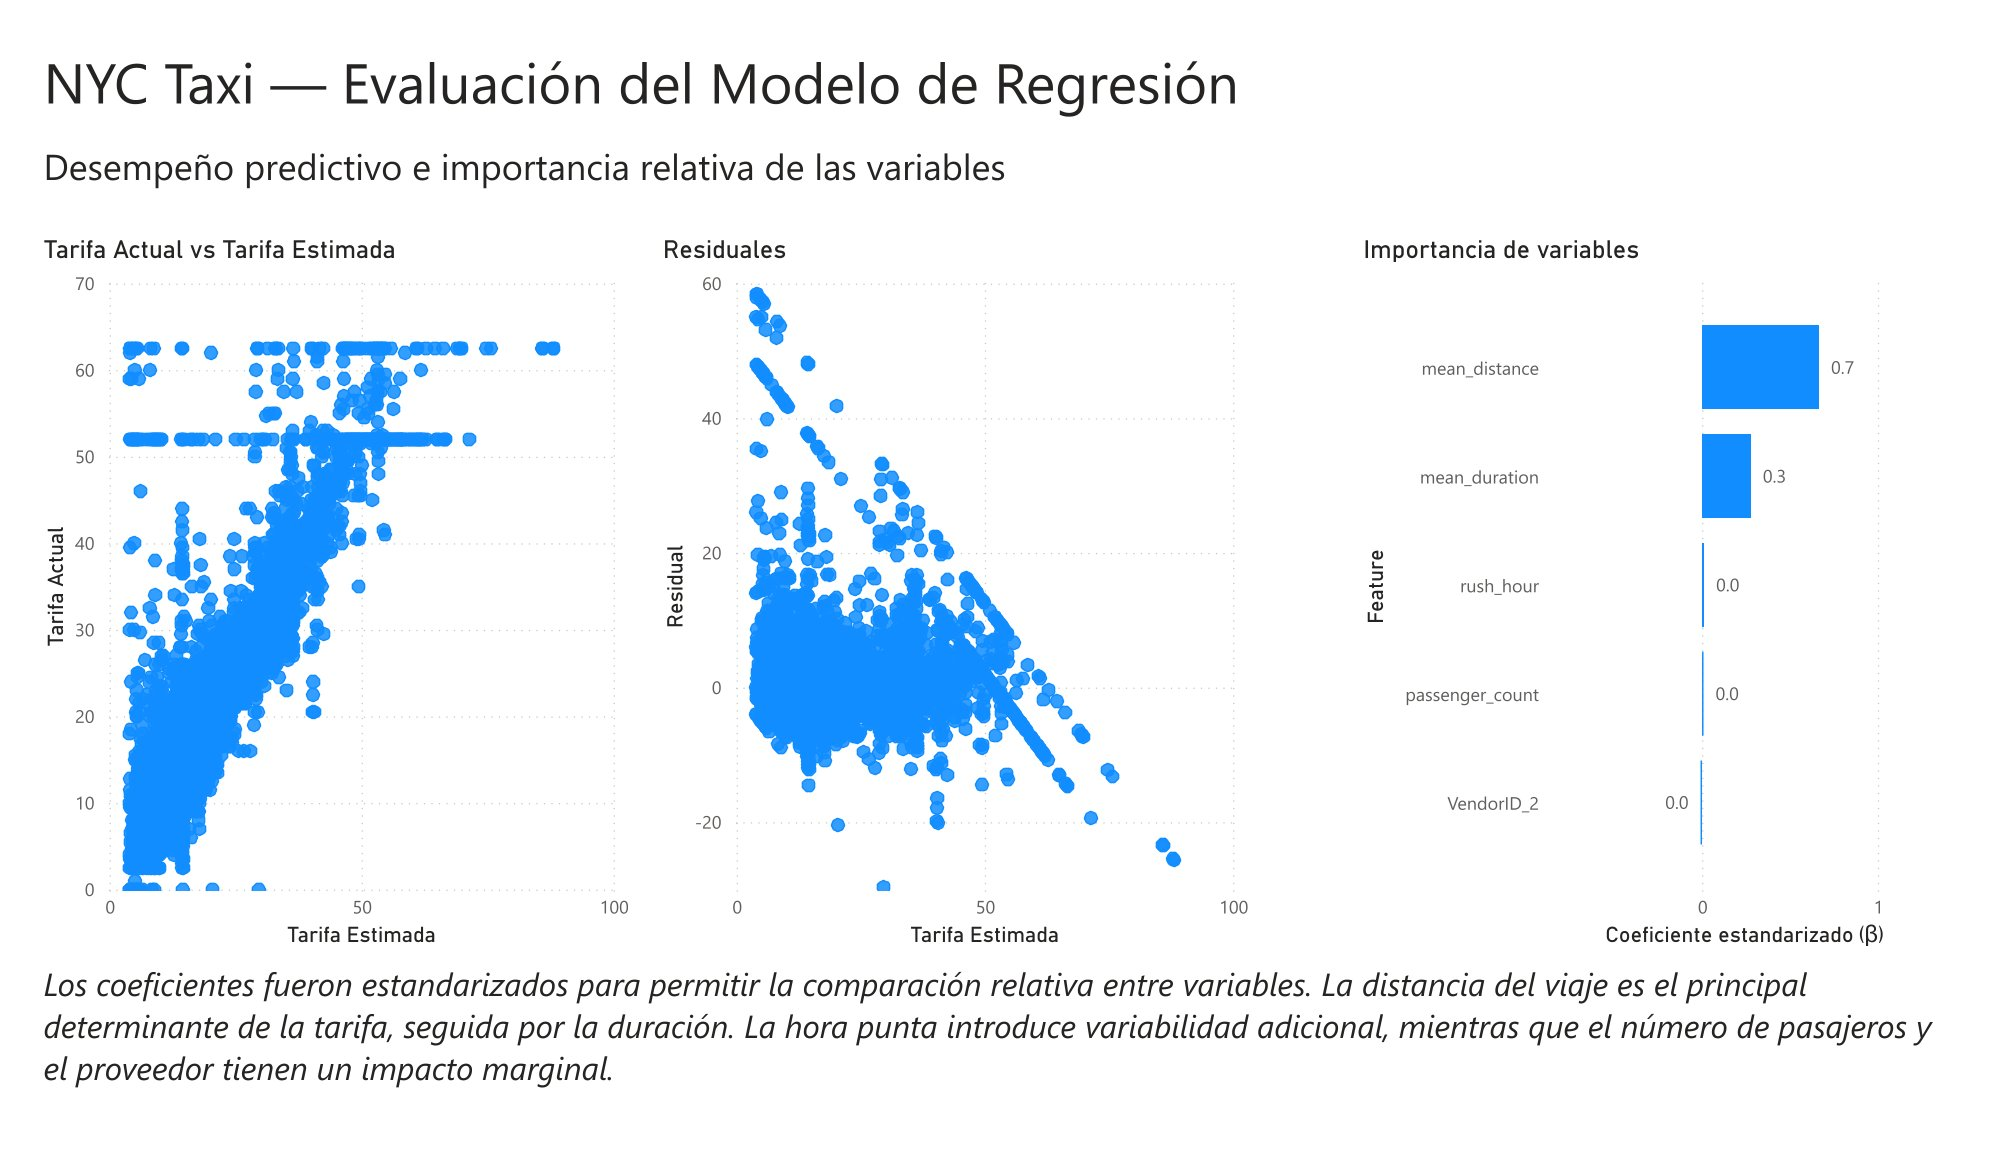

The page's visual inventory and layout, read from the dashboard file:
{"tool":"powerbi","page":{"name":"Evaluación del Modelo de Regresión","canvas":[1280,720],"ordinal":2},"visuals":[{"type":"scatterChart","title":"Tarifa Actual vs Tarifa Estimada","fields":{"X":["Trips_Analytic.fare_predicted"],"Y":["Trips_Analytic.Fare Amount Capped"]},"box":[0,131.7,400,480.5],"z":0},{"type":"scatterChart","title":"Residuales","fields":{"X":["Trips_Analytic.fare_predicted"],"Y":["Trips_Analytic.Residual"]},"box":[412.6,131.7,400,480],"z":1000},{"type":"barChart","title":"Importancia de variables","fields":{"Category":["coefficients_standardized.Feature"],"Y":["Avg(coefficients_standardized.Coefficient)"]},"box":[879.6,131.7,400.4,480],"z":2000},{"type":"textbox","box":[0,612.2,1280,107.2],"z":3000},{"type":"textbox","box":[0,0,1280,65.2],"z":4000},{"type":"textbox","box":[0,65.2,1280,66.5],"z":5000}]}

Visuals, with their boxes in screenshot pixels (x1, y1, x2, y2), scaled from the page's 1280x720 canvas onto the 1992x1152 screenshot:
"Tarifa Actual vs Tarifa Estimada" scatterChart: (0,211,622,980)
"Residuales" scatterChart: (642,211,1265,979)
"Importancia de variables" barChart: (1369,211,1991,979)
textbox: (0,980,1991,1151)
textbox: (0,0,1991,104)
textbox: (0,104,1991,211)
